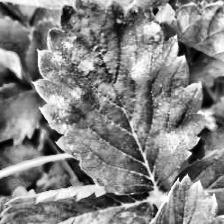Powdery Mildew Leaf: (32, 0, 208, 194), (154, 0, 224, 91), (0, 185, 160, 224), (0, 0, 187, 15)
